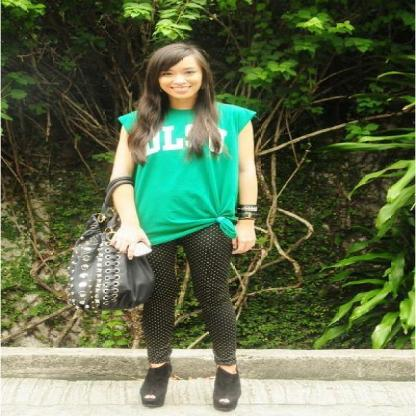bag: (47, 174, 154, 318)
pants: (139, 225, 246, 364)
shirt: (117, 104, 257, 246)
shoe: (140, 358, 240, 411)
